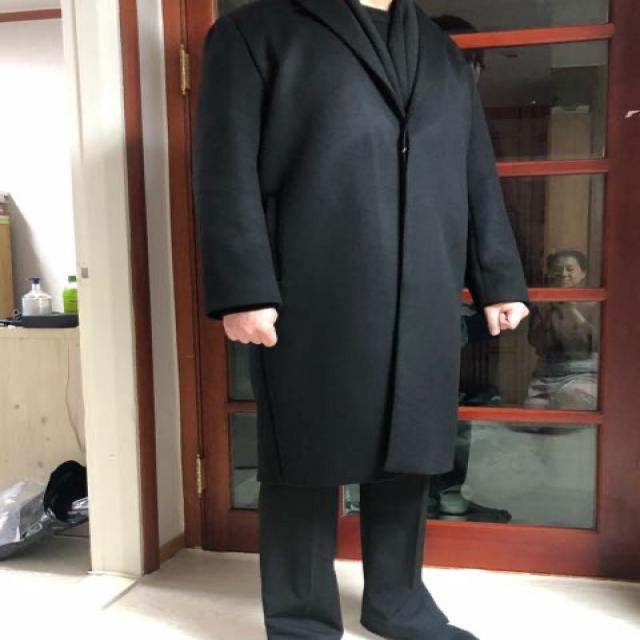coat: (192, 0, 527, 487)
slacks: (259, 473, 450, 640)
